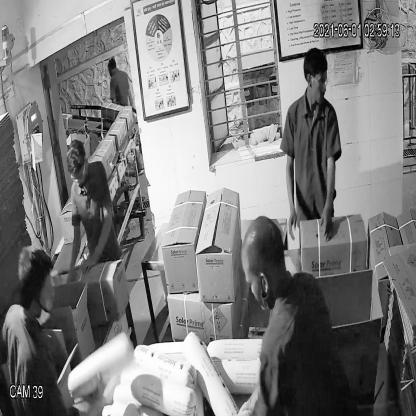goggles: (65, 161, 92, 188), (306, 71, 332, 93)
